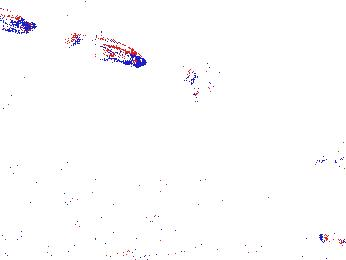red belly glassfish: (315, 228, 346, 248)
redtail glassfish: (62, 24, 147, 71), (1, 4, 38, 40), (308, 145, 346, 177), (184, 59, 218, 91)
